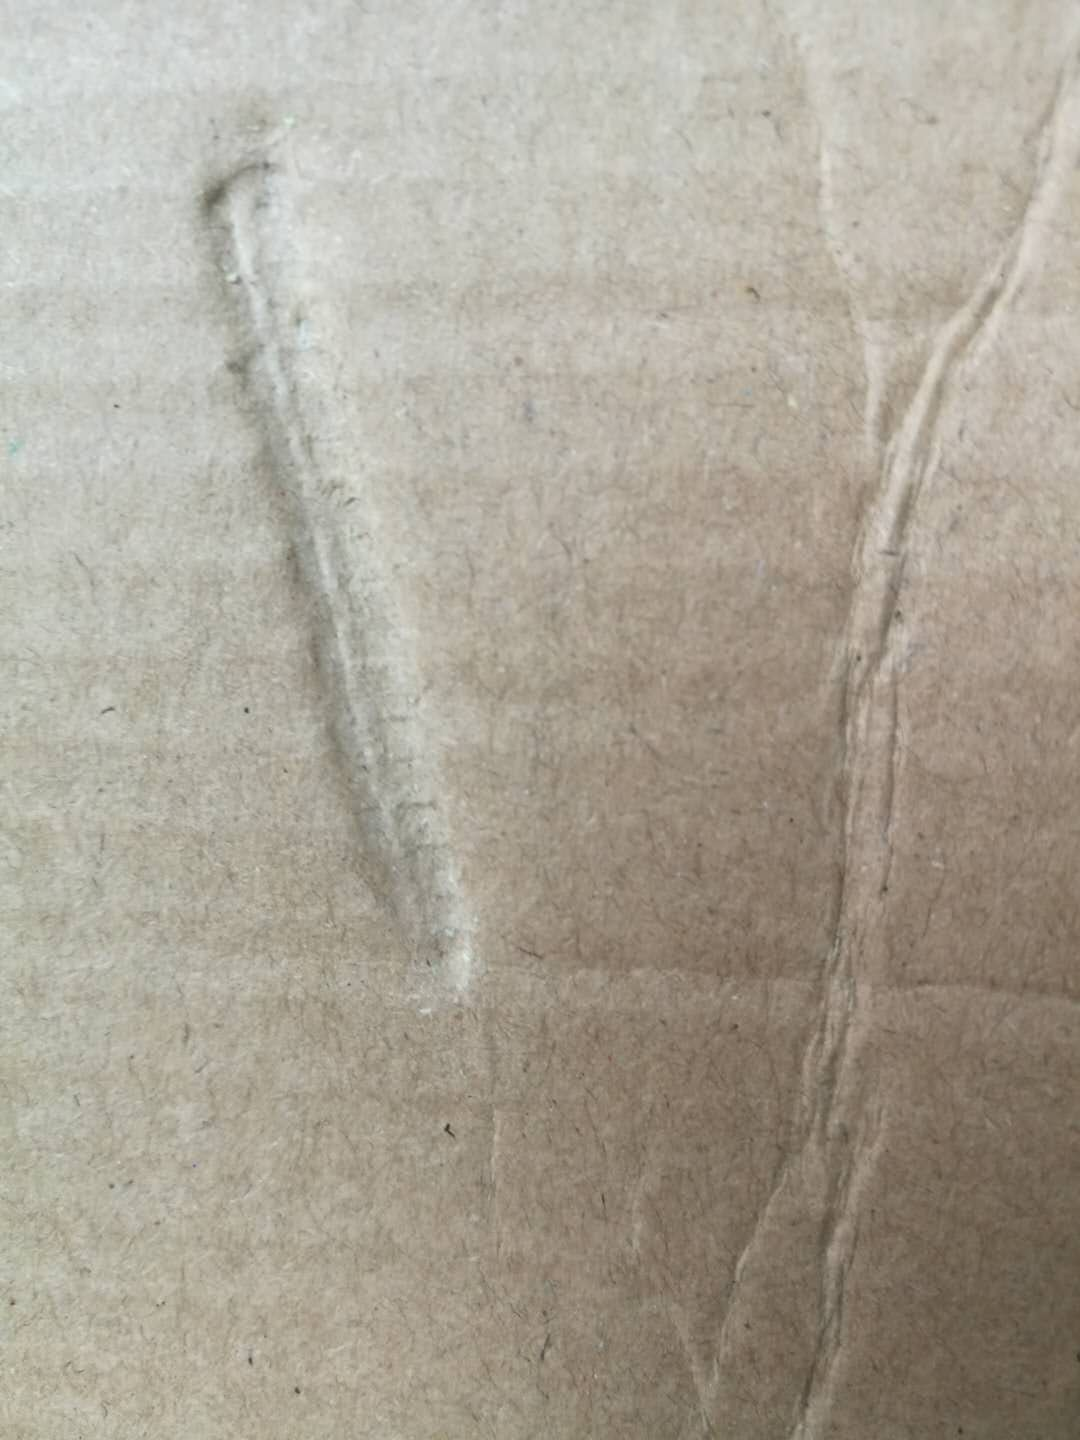defect: (663, 10, 1062, 1440), (135, 96, 619, 1028)
